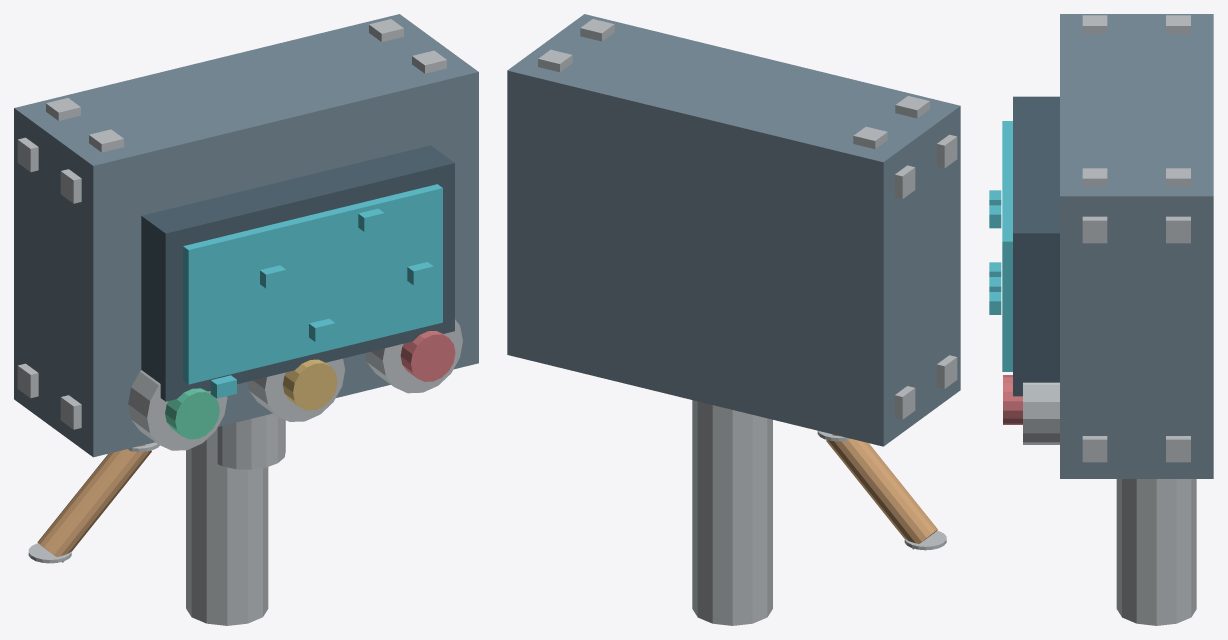
The model's file is 44_L77_CopperCorrosionPotentialMonitor.glb.
The picture shows the model from 3 angles, left to right: view 1: azimuth 30°, elevation 25°; view 2: azimuth 150°, elevation 25°; view 3: azimuth 270°, elevation 25°; orthographic projection. The views are drawn at different scales.
Visible parts, largest first — view 1: CopperCorrosionPotentialMonitor_Node_0000, CopperCorrosionPotentialMonitor_Node_0010, CopperCorrosionPotentialMonitor_Node_0009, CopperCorrosionPotentialMonitor_Node_0026, CopperCorrosionPotentialMonitor_Node_0023, CopperCorrosionPotentialMonitor_Node_0022, CopperCorrosionPotentialMonitor_Node_0016, CopperCorrosionPotentialMonitor_Node_0017, CopperCorrosionPotentialMonitor_Node_0019, CopperCorrosionPotentialMonitor_Node_0021, CopperCorrosionPotentialMonitor_Node_0020, CopperCorrosionPotentialMonitor_Node_0018; view 2: CopperCorrosionPotentialMonitor_Node_0000, CopperCorrosionPotentialMonitor_Node_0026, CopperCorrosionPotentialMonitor_Node_0023; view 3: CopperCorrosionPotentialMonitor_Node_0000, CopperCorrosionPotentialMonitor_Node_0009, CopperCorrosionPotentialMonitor_Node_0026, CopperCorrosionPotentialMonitor_Node_0010, CopperCorrosionPotentialMonitor_Node_0020, CopperCorrosionPotentialMonitor_Node_0021, CopperCorrosionPotentialMonitor_Node_0004, CopperCorrosionPotentialMonitor_Node_0002, CopperCorrosionPotentialMonitor_Node_0003, CopperCorrosionPotentialMonitor_Node_0001, CopperCorrosionPotentialMonitor_Node_0006, CopperCorrosionPotentialMonitor_Node_0008 (+2 smaller).
Boxes of the visible parts, bbox=[...] form: CopperCorrosionPotentialMonitor_Node_0000: bbox=[14, 14, 478, 457]; CopperCorrosionPotentialMonitor_Node_0010: bbox=[183, 184, 442, 384]; CopperCorrosionPotentialMonitor_Node_0009: bbox=[141, 145, 454, 401]; CopperCorrosionPotentialMonitor_Node_0026: bbox=[186, 428, 268, 625]; CopperCorrosionPotentialMonitor_Node_0023: bbox=[37, 445, 151, 562]; CopperCorrosionPotentialMonitor_Node_0022: bbox=[217, 413, 285, 469]; CopperCorrosionPotentialMonitor_Node_0016: bbox=[128, 370, 227, 450]; CopperCorrosionPotentialMonitor_Node_0017: bbox=[165, 388, 219, 439]; CopperCorrosionPotentialMonitor_Node_0019: bbox=[283, 359, 337, 410]; CopperCorrosionPotentialMonitor_Node_0021: bbox=[400, 331, 455, 381]; CopperCorrosionPotentialMonitor_Node_0020: bbox=[365, 319, 462, 393]; CopperCorrosionPotentialMonitor_Node_0018: bbox=[247, 358, 345, 421]; CopperCorrosionPotentialMonitor_Node_0000: bbox=[507, 14, 960, 446]; CopperCorrosionPotentialMonitor_Node_0026: bbox=[692, 400, 772, 625]; CopperCorrosionPotentialMonitor_Node_0023: bbox=[826, 434, 937, 549]; CopperCorrosionPotentialMonitor_Node_0000: bbox=[1060, 14, 1213, 478]; CopperCorrosionPotentialMonitor_Node_0009: bbox=[1013, 96, 1059, 396]; CopperCorrosionPotentialMonitor_Node_0026: bbox=[1116, 479, 1196, 625]; CopperCorrosionPotentialMonitor_Node_0010: bbox=[1002, 121, 1012, 371]; CopperCorrosionPotentialMonitor_Node_0020: bbox=[1023, 382, 1059, 444]; CopperCorrosionPotentialMonitor_Node_0021: bbox=[1003, 375, 1022, 424]; CopperCorrosionPotentialMonitor_Node_0004: bbox=[1082, 216, 1107, 243]; CopperCorrosionPotentialMonitor_Node_0002: bbox=[1082, 436, 1107, 462]; CopperCorrosionPotentialMonitor_Node_0003: bbox=[1166, 216, 1190, 243]; CopperCorrosionPotentialMonitor_Node_0001: bbox=[1166, 436, 1190, 462]; CopperCorrosionPotentialMonitor_Node_0006: bbox=[1082, 15, 1107, 33]; CopperCorrosionPotentialMonitor_Node_0008: bbox=[1082, 168, 1107, 186].
Size of the model in its own units: 0.4661 by 0.57 by 0.2242.
